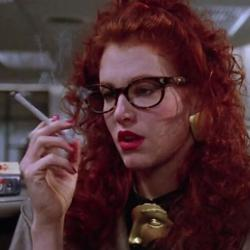smoking: (7, 89, 82, 213)
